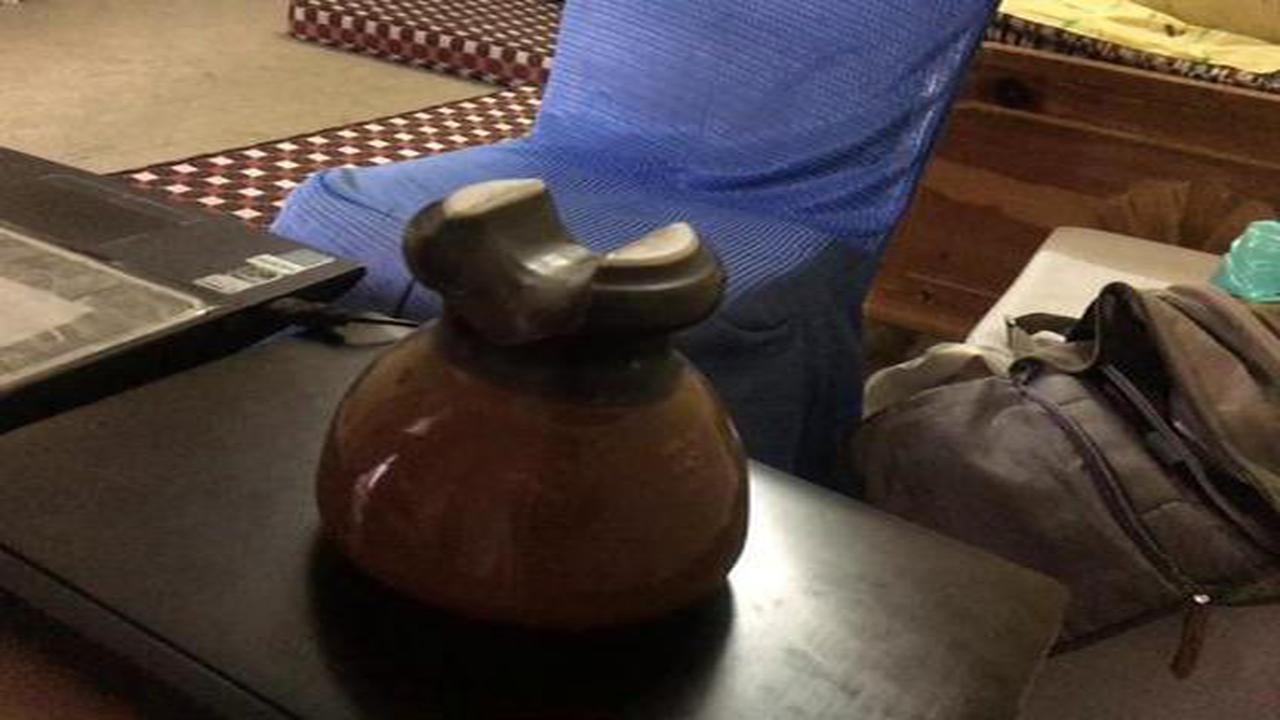insulator_pin: (299, 165, 764, 637)
